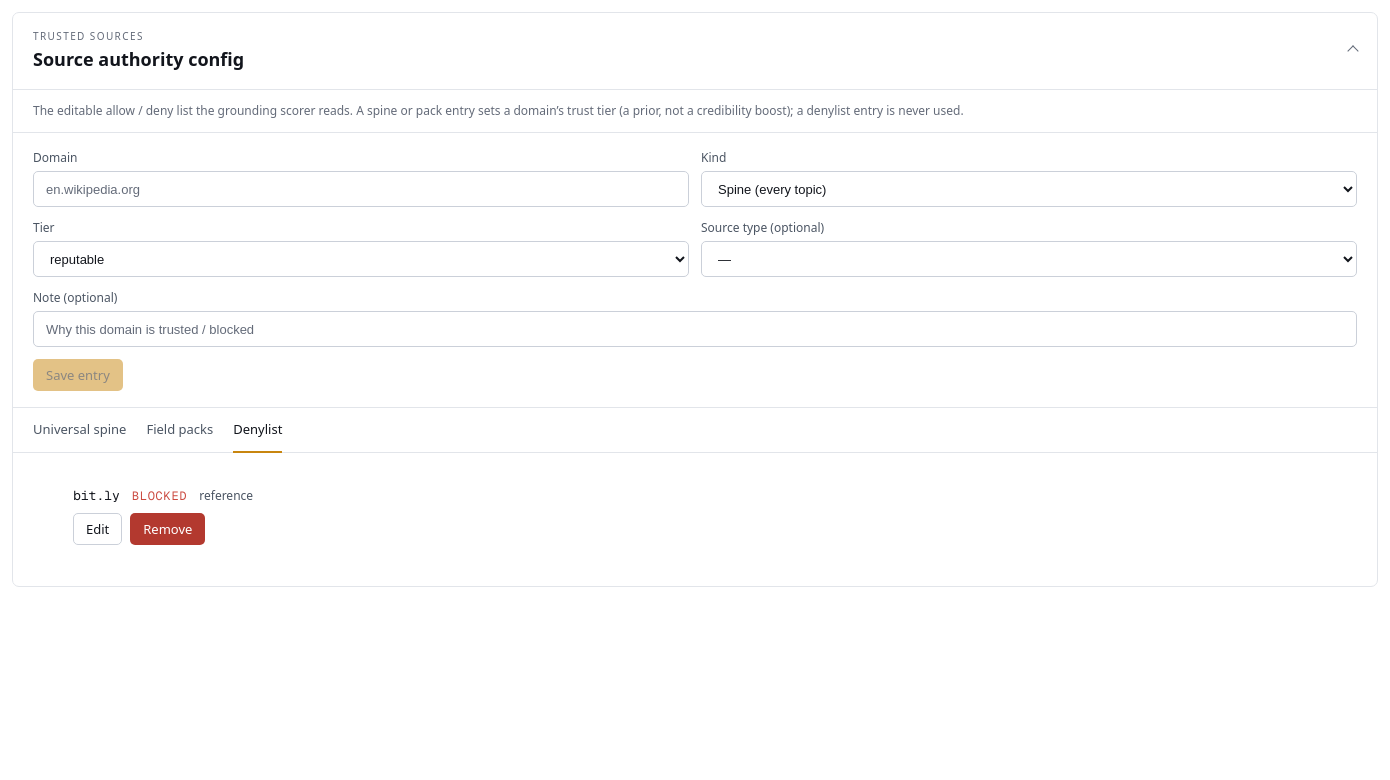
TrustedSourcesPanel › removes an authority via its labelled action
Expected: the text "bit.ly" is shown, [73,486,120,505]
What coordinates should you click on to do the following:
click the button with aria-label "Remove bit.ly"
I would click on:
 (168, 529)
Its box is [130,513,205,545].
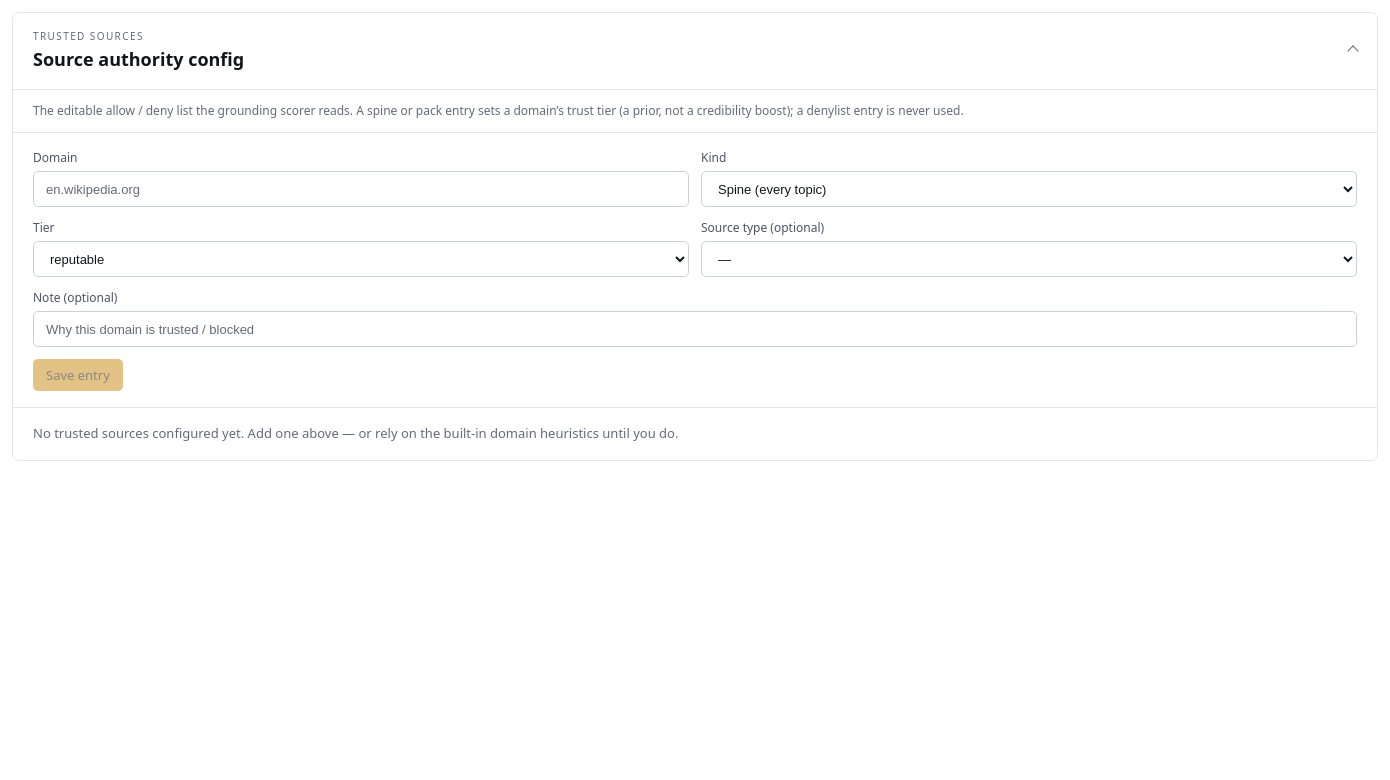
Expected: the text "bit.ly" is gone
